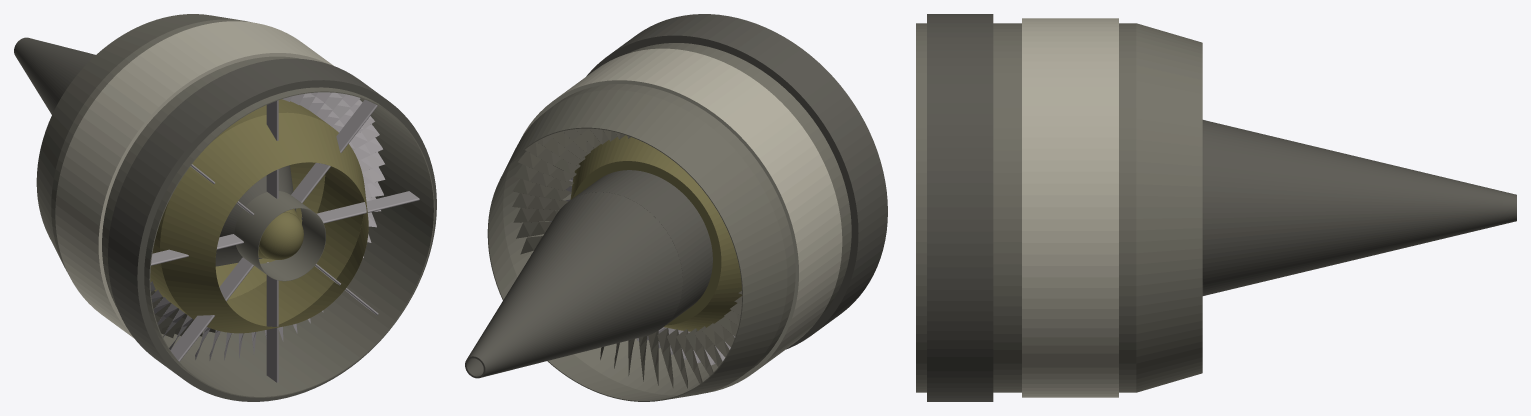
File: aft_ensamble.glb
The picture shows the model from 3 angles, left to right: view 1: azimuth 30°, elevation 25°; view 2: azimuth 150°, elevation 25°; view 3: azimuth 270°, elevation 25°; orthographic projection. The views are drawn at different scales.
Parts seen in each view (by area): view 1: aft_ext, aft_int, aftb2, aftb1, strut_assembly, aft_ext2, alabe_fan, aft_cone, aft_int2, aftbtip, alabe_stator_fan; view 2: aft_cone, aft_ext2, aftb2, aftb1, aft_ext, alabe_stator_fan, aft_int, alabe_fan; view 3: aftb2, aft_cone, aftb1, aft_ext2, aft_ext.
Part boxes in pixels (left/top/right/bottom): aft_ext: left=51, top=19, right=434, bottom=397; aft_int: left=150, top=99, right=368, bottom=333; aftb2: left=55, top=21, right=333, bottom=338; aftb1: left=108, top=58, right=436, bottom=401; strut_assembly: left=151, top=100, right=419, bottom=382; aft_ext2: left=36, top=14, right=244, bottom=265; alabe_fan: left=150, top=92, right=385, bottom=360; aft_cone: left=14, top=37, right=296, bottom=266; aft_int2: left=234, top=191, right=325, bottom=281; aftbtip: left=258, top=209, right=303, bottom=259; alabe_stator_fan: left=151, top=290, right=215, bottom=337; aft_cone: left=465, top=170, right=712, bottom=378; aft_ext2: left=487, top=90, right=787, bottom=401; aftb2: left=520, top=48, right=842, bottom=392; aftb1: left=586, top=14, right=887, bottom=349; aft_ext: left=503, top=43, right=851, bottom=395; alabe_stator_fan: left=512, top=96, right=754, bottom=388; aft_int: left=570, top=135, right=742, bottom=331; alabe_fan: left=550, top=177, right=735, bottom=365; aftb2: left=1022, top=18, right=1118, bottom=397; aft_cone: left=1202, top=120, right=1516, bottom=295; aftb1: left=927, top=14, right=993, bottom=401; aft_ext2: left=1136, top=23, right=1202, bottom=392; aft_ext: left=916, top=23, right=1136, bottom=392.
Bounding box in the file's own units: 880 × 880 × 1363.
